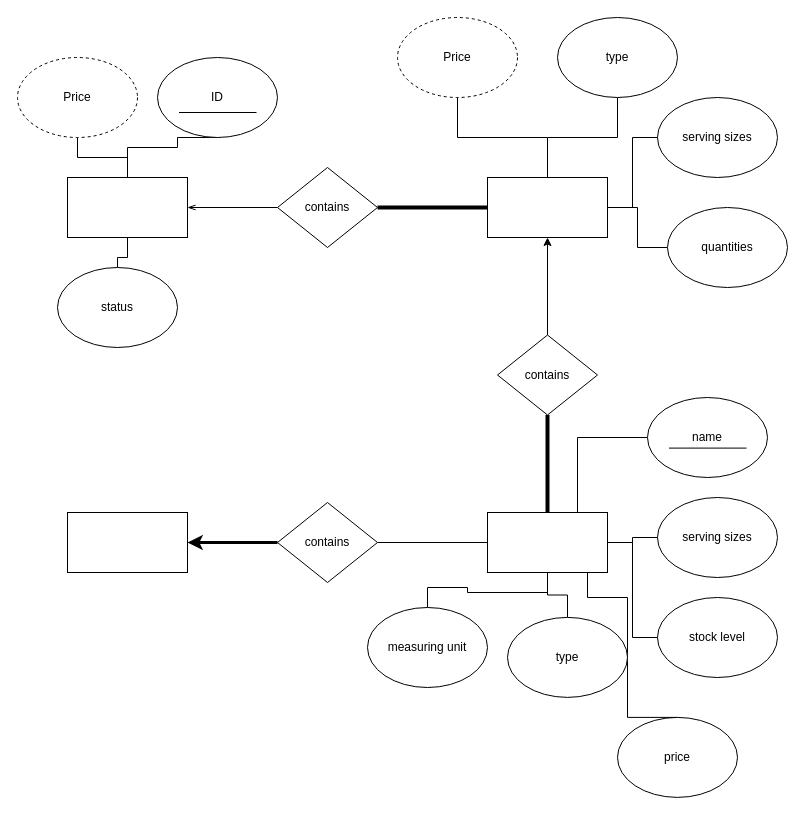
The diagram is 805 pixels wide and 815 high, and some of its shapes have lost their labels. Here are the shapes that lost their labels. From the top down, the centre of each, then its label:
At (127,207): "Order".
At (547,207): "Items".
At (127,542): "Inventory".
At (547,542): "Ingredient".
